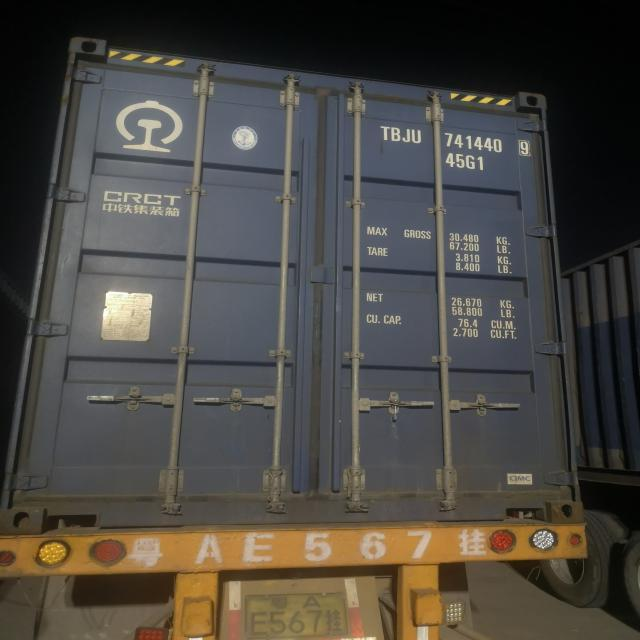ISO: (448, 153, 486, 172)
container_number: (383, 126, 537, 152)
